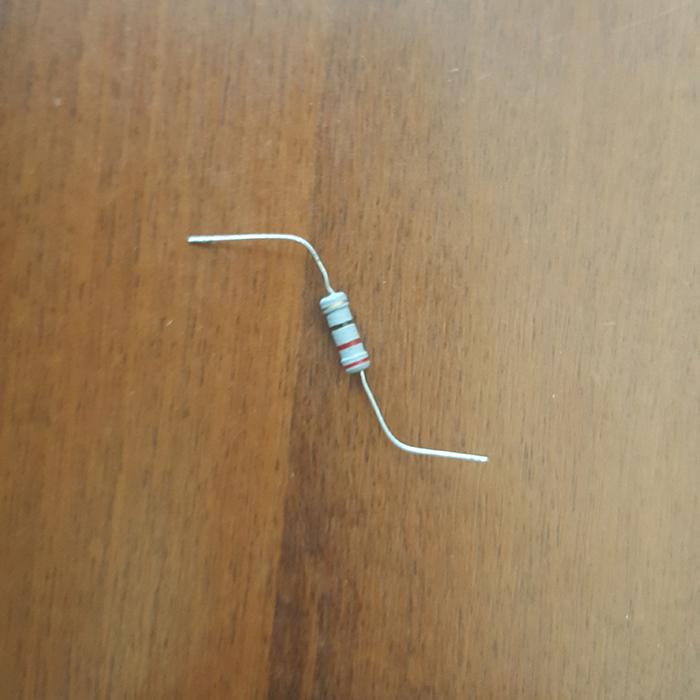resistor: (318, 288, 369, 374)
